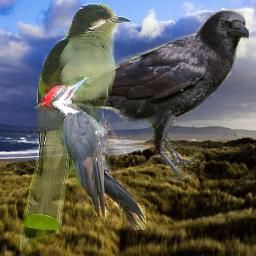Crow: (31, 9, 249, 182)
Cuckoo: (19, 3, 132, 256)
Woodpecker: (41, 76, 146, 230)
